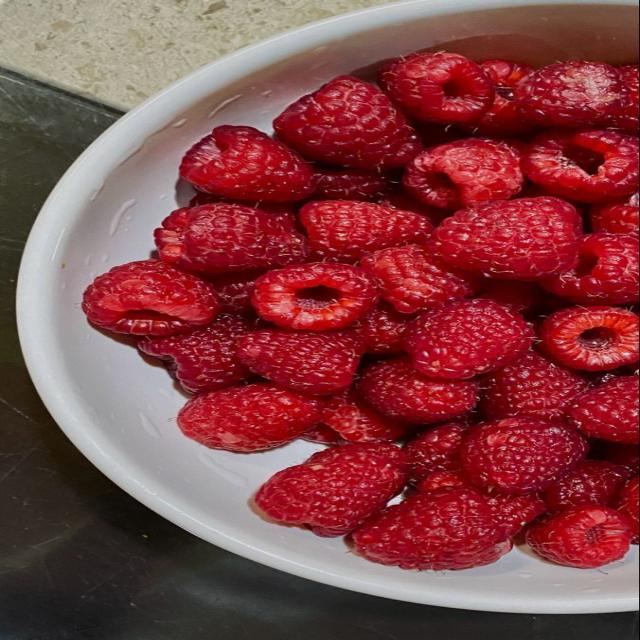raspberry: (255, 444, 408, 537), (274, 76, 422, 169), (353, 488, 511, 570), (433, 197, 581, 279), (155, 203, 309, 273), (83, 260, 218, 336), (406, 300, 533, 379), (180, 126, 313, 201), (178, 383, 319, 452), (461, 418, 586, 494), (139, 315, 254, 393), (252, 263, 378, 331), (403, 139, 523, 209), (523, 129, 638, 202), (237, 329, 364, 395), (300, 200, 432, 262), (379, 53, 495, 123), (361, 245, 478, 313), (358, 358, 477, 423), (480, 352, 589, 421), (515, 61, 628, 126), (542, 233, 639, 304), (527, 506, 632, 568), (539, 307, 639, 371), (463, 61, 536, 137), (568, 376, 639, 444), (321, 390, 407, 442), (545, 461, 631, 511), (405, 423, 468, 479), (189, 191, 296, 223), (483, 492, 547, 537), (359, 302, 413, 354), (380, 187, 451, 225), (486, 493, 547, 537), (314, 166, 389, 201), (207, 271, 263, 316), (476, 279, 544, 313), (591, 192, 639, 235), (613, 65, 639, 134), (590, 439, 639, 473), (615, 476, 639, 543), (413, 121, 468, 147), (416, 469, 469, 494), (586, 366, 633, 386), (302, 423, 344, 444)
